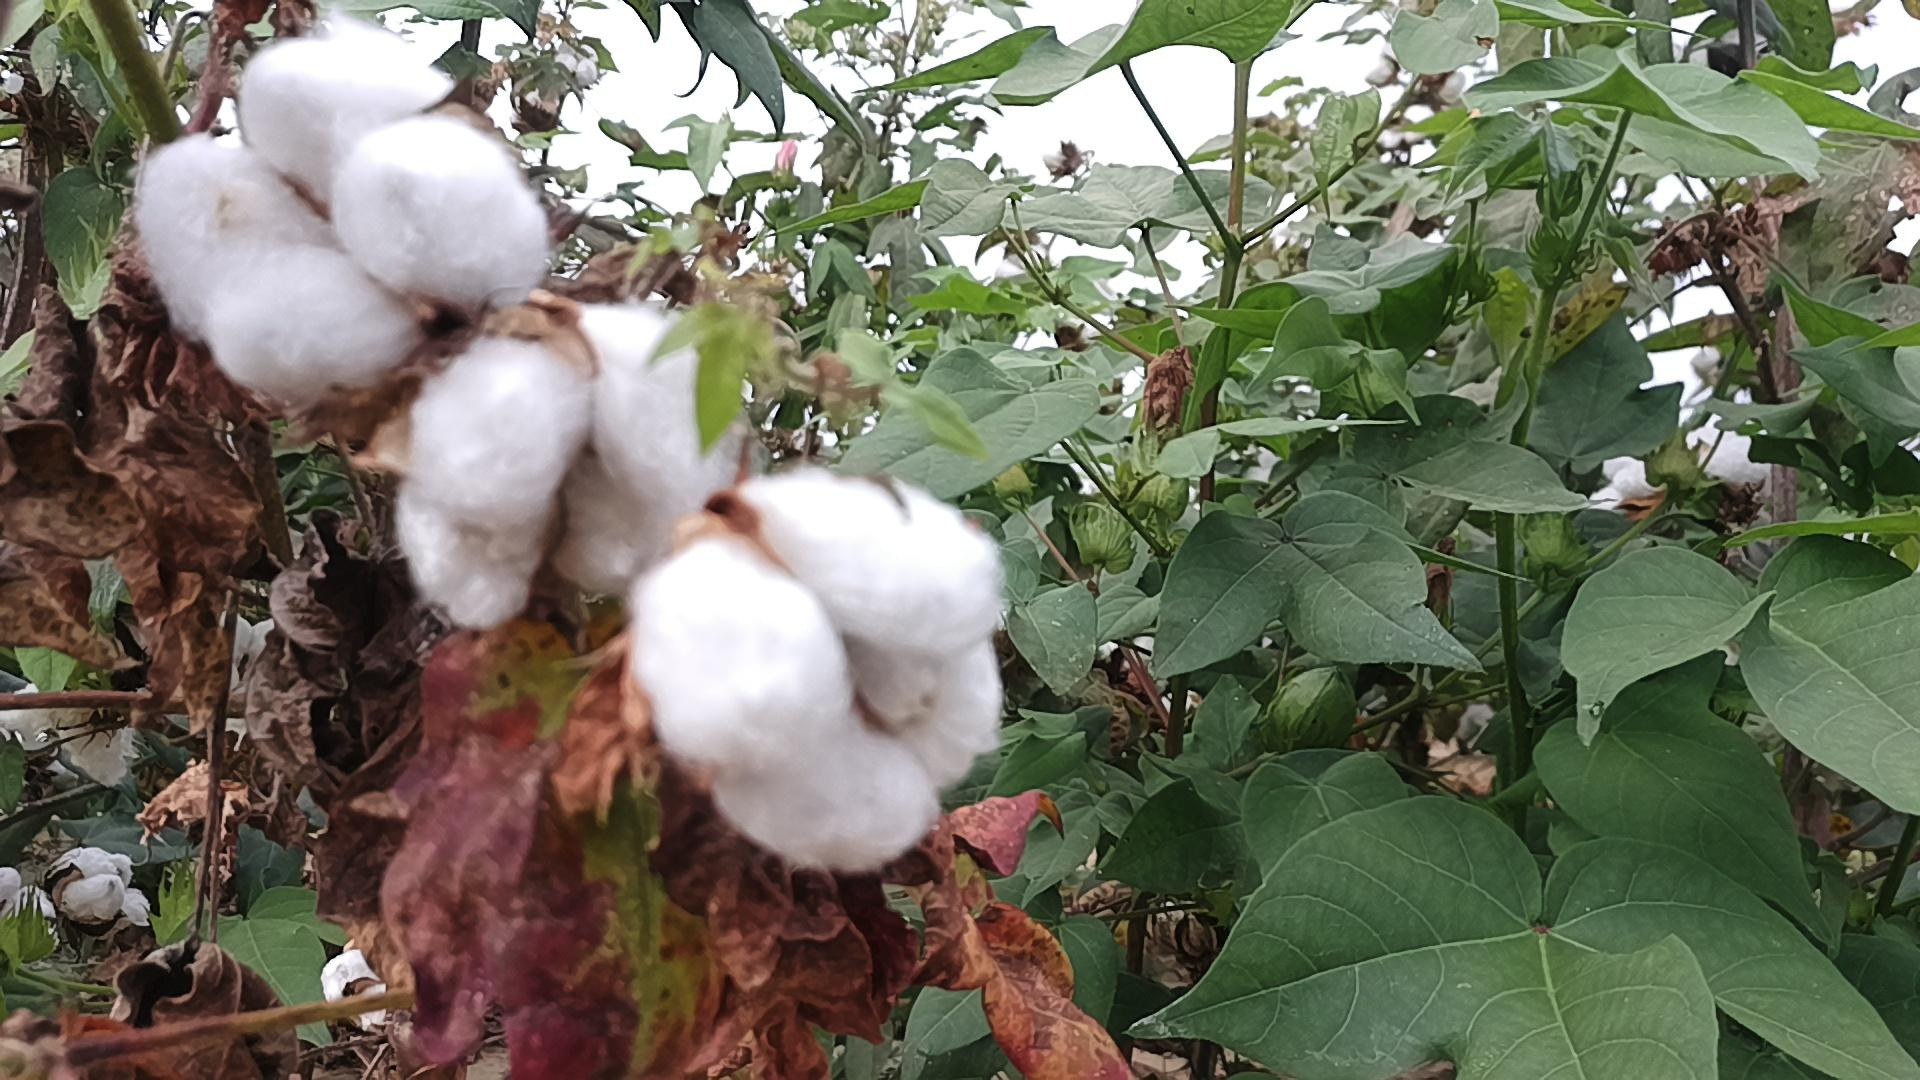cotton_ready: (136, 33, 547, 393), (636, 471, 1004, 873), (400, 303, 745, 630)
